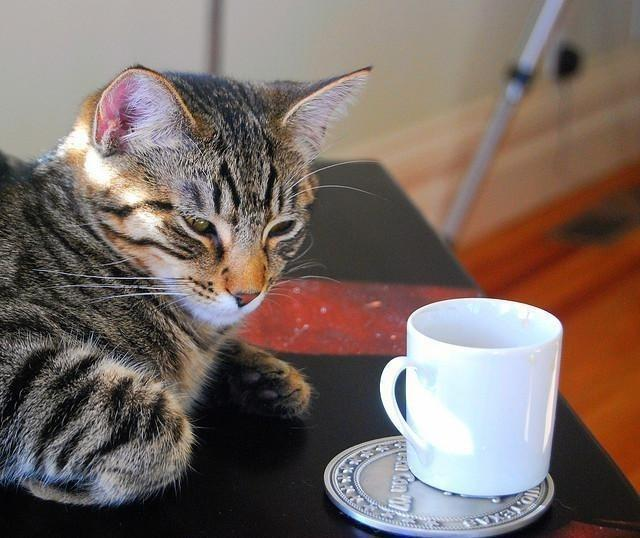cup-handle: (378, 296, 564, 497)
